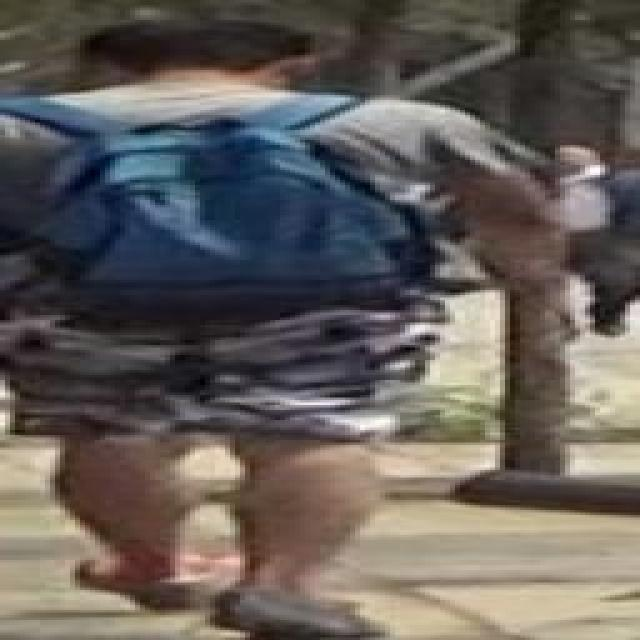adult: (0, 13, 553, 640)
